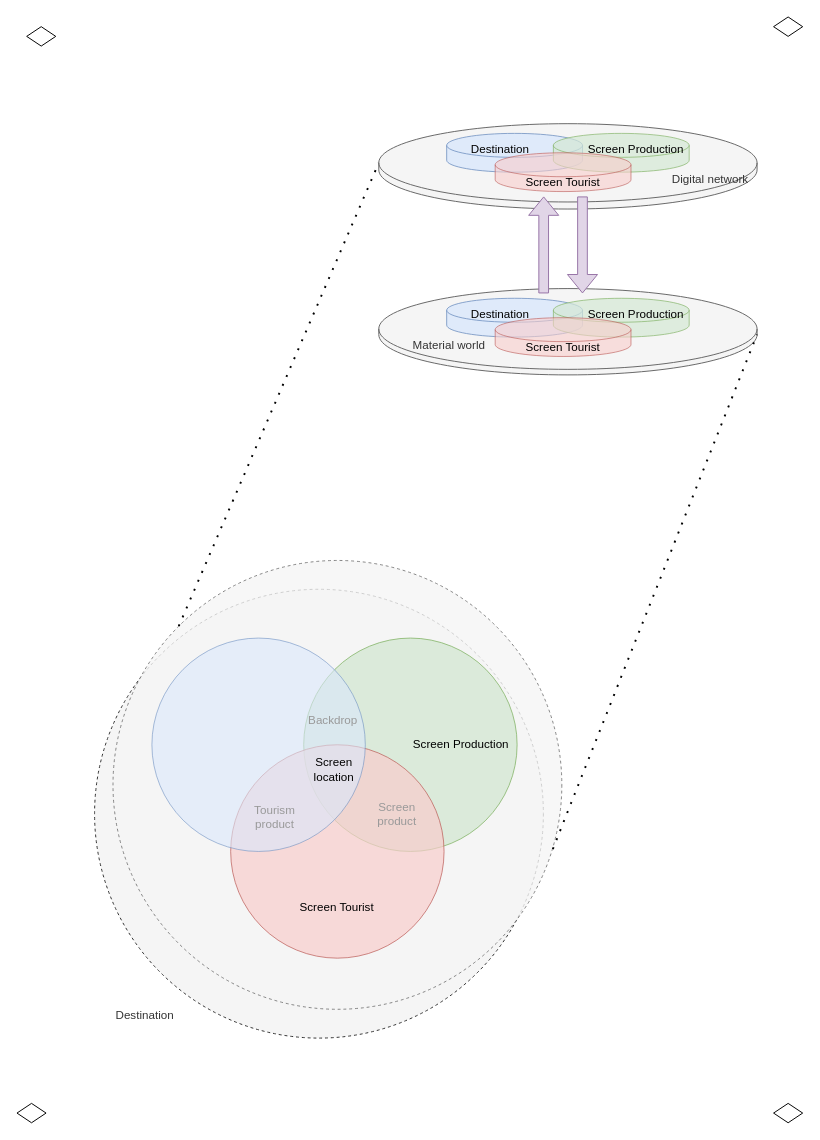
Some shapes in this 820 by 1140 pixel diagram are drawn without their labels. Each missing label, with the box of its shape:
Destination Official: (151, 637, 365, 851)
Social Media: (112, 559, 562, 1009)
